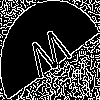W: (25, 25, 77, 89)
